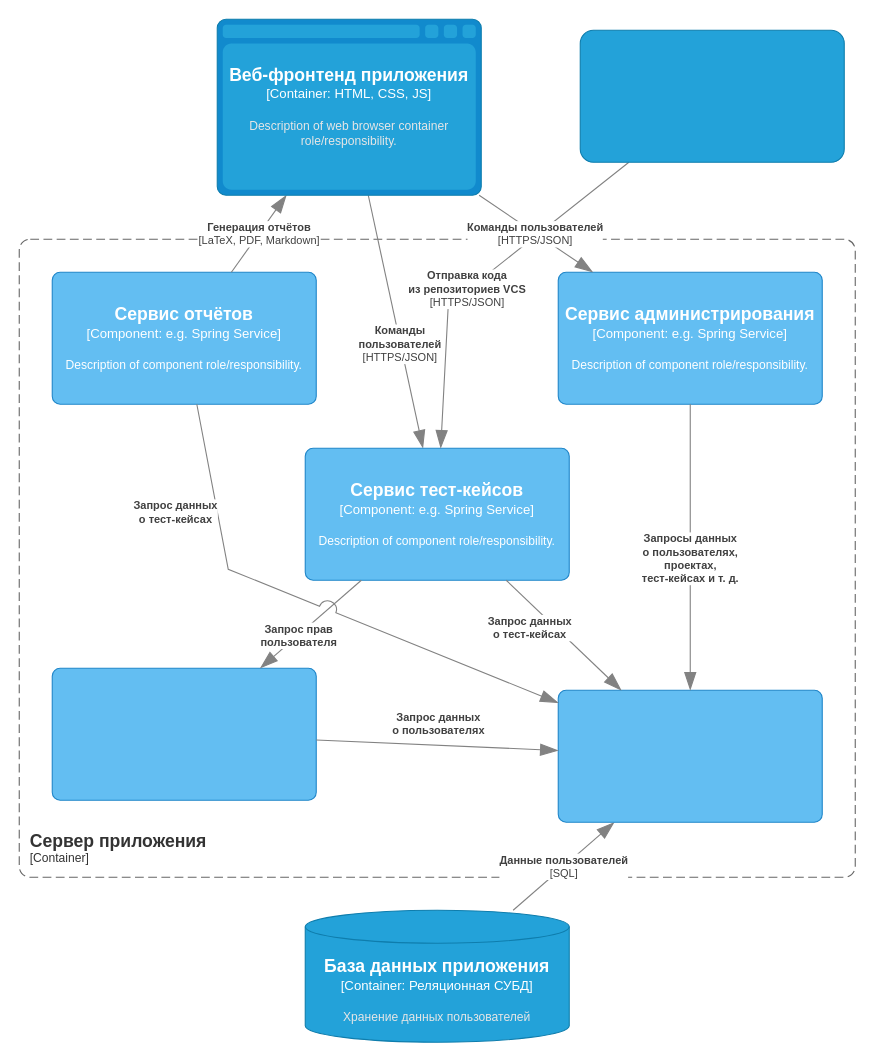
This 875x1062 diagram has some shape labels left out. Each missing label, with the centre of its shape:
"VCS-адаптер [Container: Python] Description of container role/responsibility." belongs at (x=711, y=95).
"Модуль работы с БД [Component: ORM] Доступ к БД на уровне приложения" belongs at (x=689, y=755).
"Сервис авторизации [Component: JWT] Проверка прав пользователей" belongs at (x=183, y=733).
